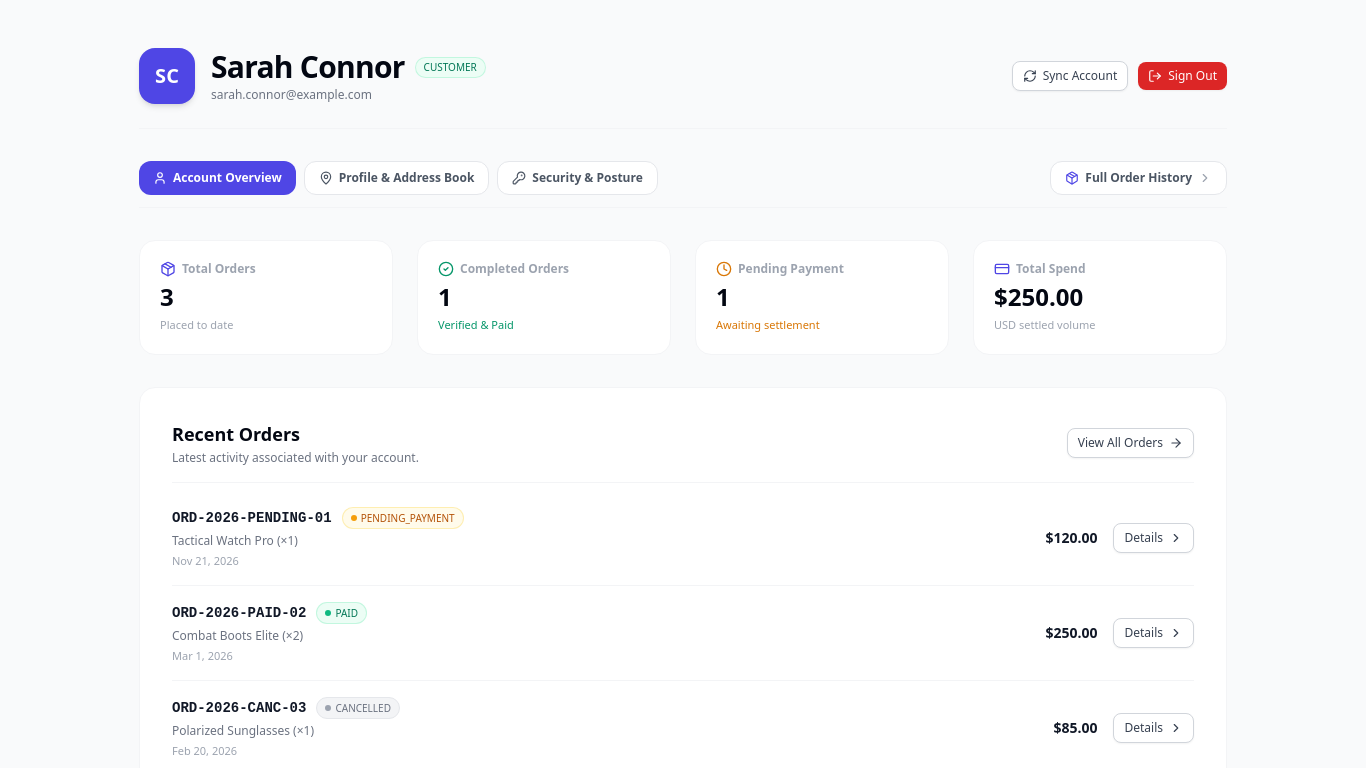
Test: Phase 7: User Dashboard and Order Management › Profile Information (Read-Only Identity) › displays verified read-only identity credentials and role status
Switch to Profile tab
Click the button "Profile & Address Book": click(397, 178) x1=304 y1=161 x2=489 y2=195
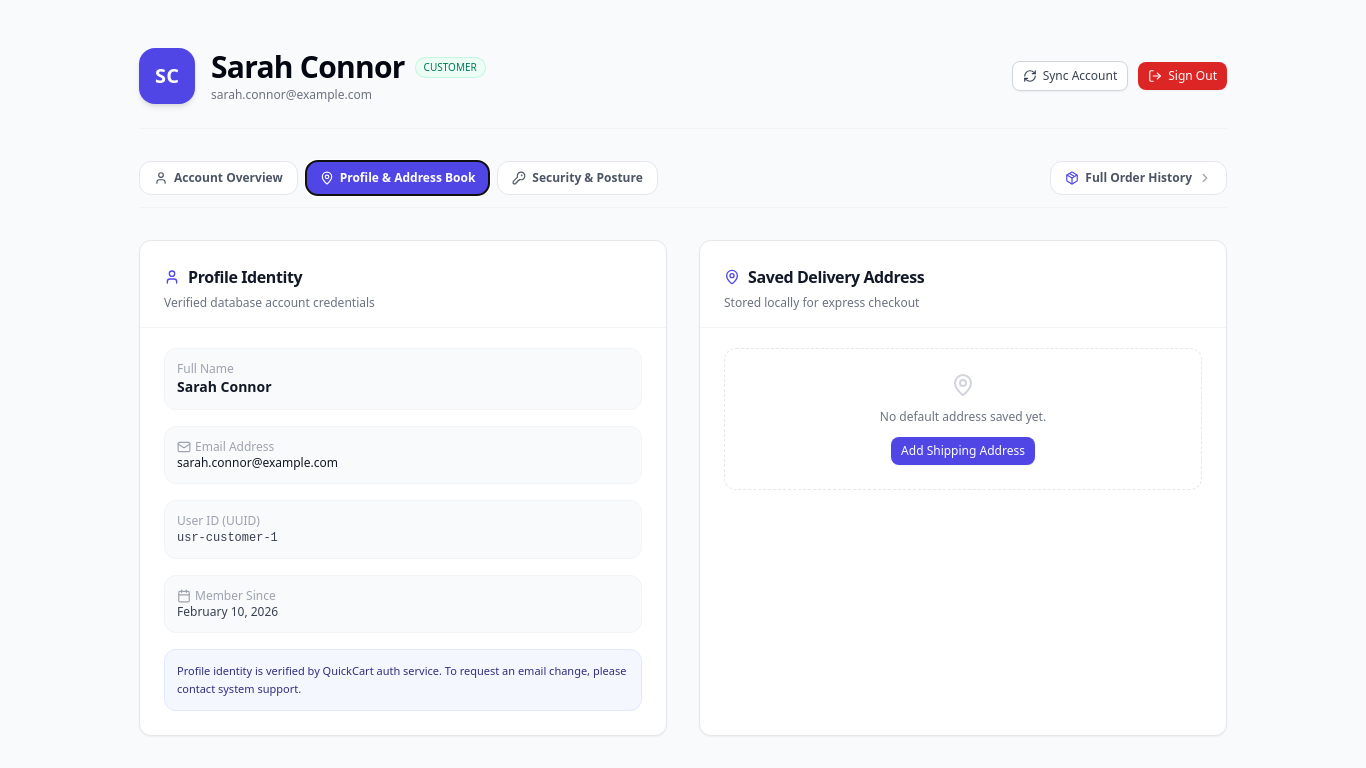
Expected: the heading "Profile Identity" is shown, x1=188 y1=265 x2=302 y2=289
Expected: the text "usr-customer-1" is shown, x1=177 y1=531 x2=278 y2=545
Expected: the text "Profile identity is verified by QuickCart auth service" is shown, x1=177 y1=663 x2=626 y2=696
